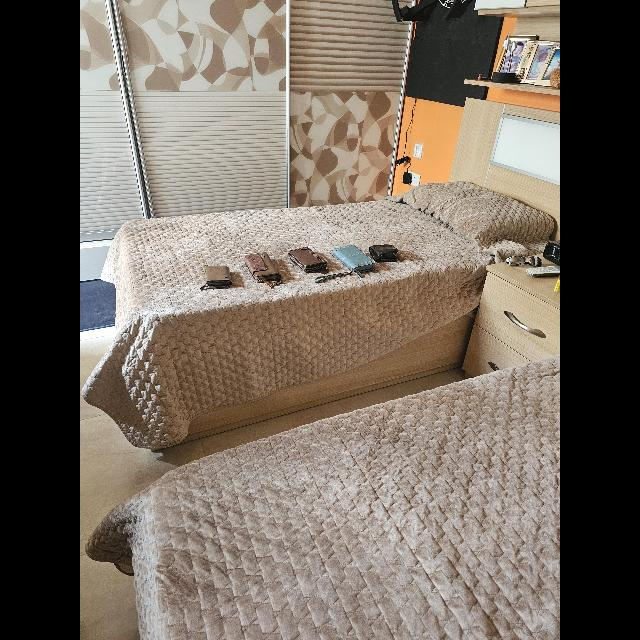Wallet: (243, 251, 283, 287), (332, 244, 376, 274), (288, 246, 328, 274), (200, 266, 232, 290), (369, 245, 399, 262)
